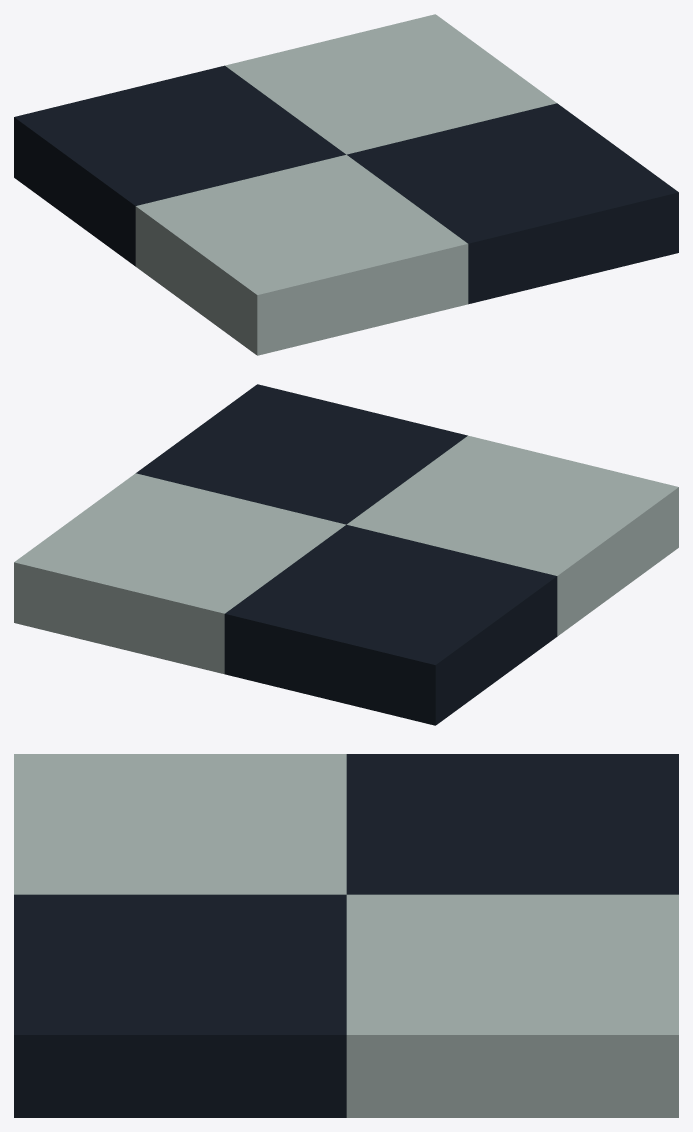
Rendered from floor.gltf.
3 renders of one model, top to bottom at view 1: azimuth 30°, elevation 25°; view 2: azimuth 150°, elevation 25°; view 3: azimuth 270°, elevation 25°, orthographic. The views are drawn at different scales.
Visible parts, largest first — view 1: Floor; view 2: Floor; view 3: Floor.
Part boxes in pixels (<box>): Floor: <box>14,14,678,355</box>; Floor: <box>14,384,678,725</box>; Floor: <box>14,754,678,1117</box>.
Size of the model in its own units: 2 by 0.2748 by 2.
1 material, 1 textured.
